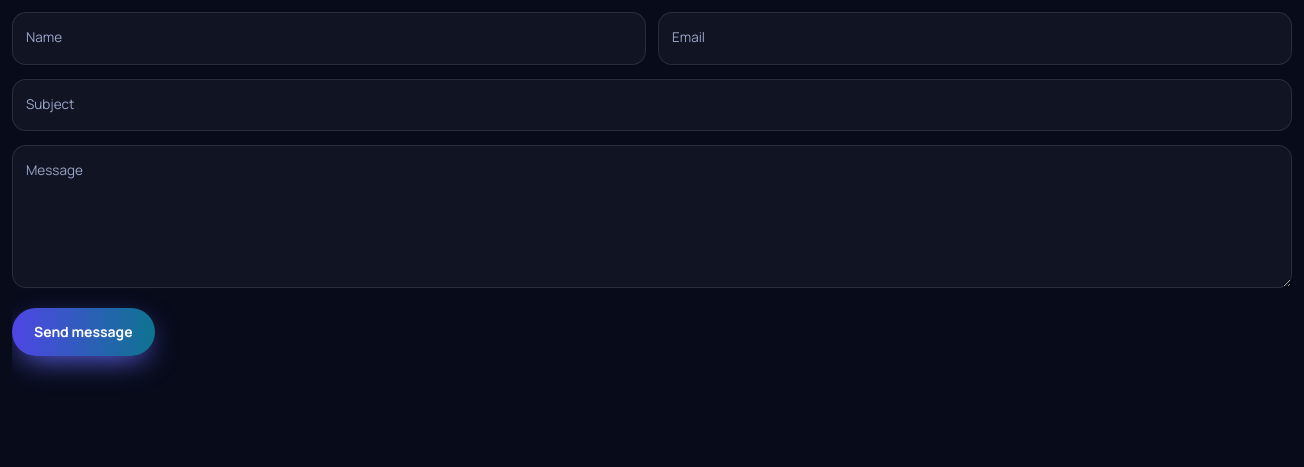
Test: ContactForm › shows field errors on an empty submit
Click the button "Send message" at (83, 332), box [12,308,155,356]
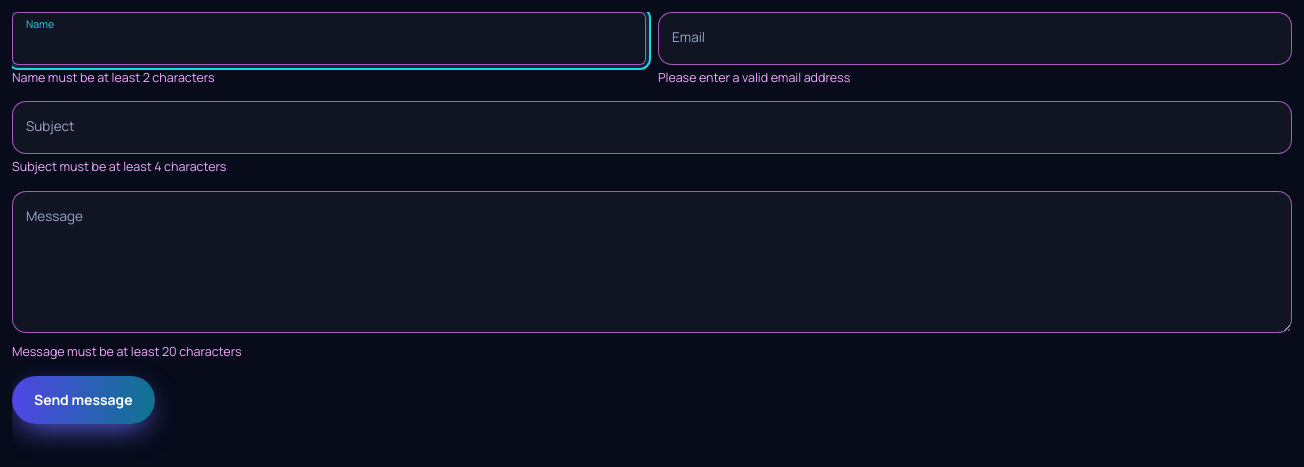
Now the text "Name must be at least 2 characters" is shown, box [12,68,215,86]
Now the text "Please enter a valid email address" is shown, box [658,68,850,86]
